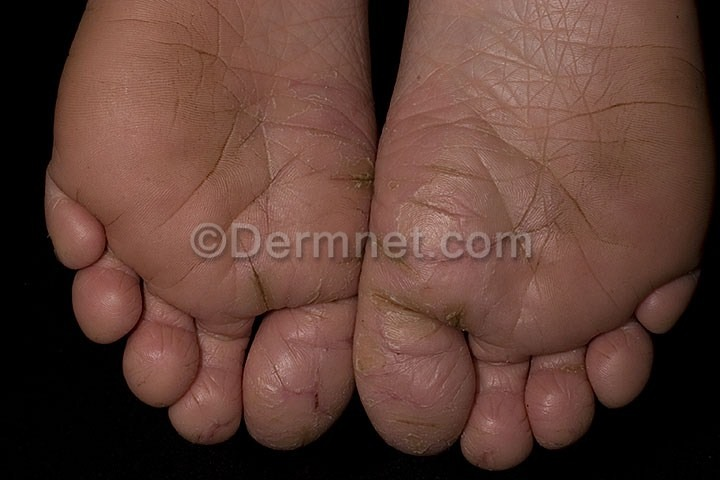Eczema: (390, 8, 641, 460), (168, 7, 371, 465)
